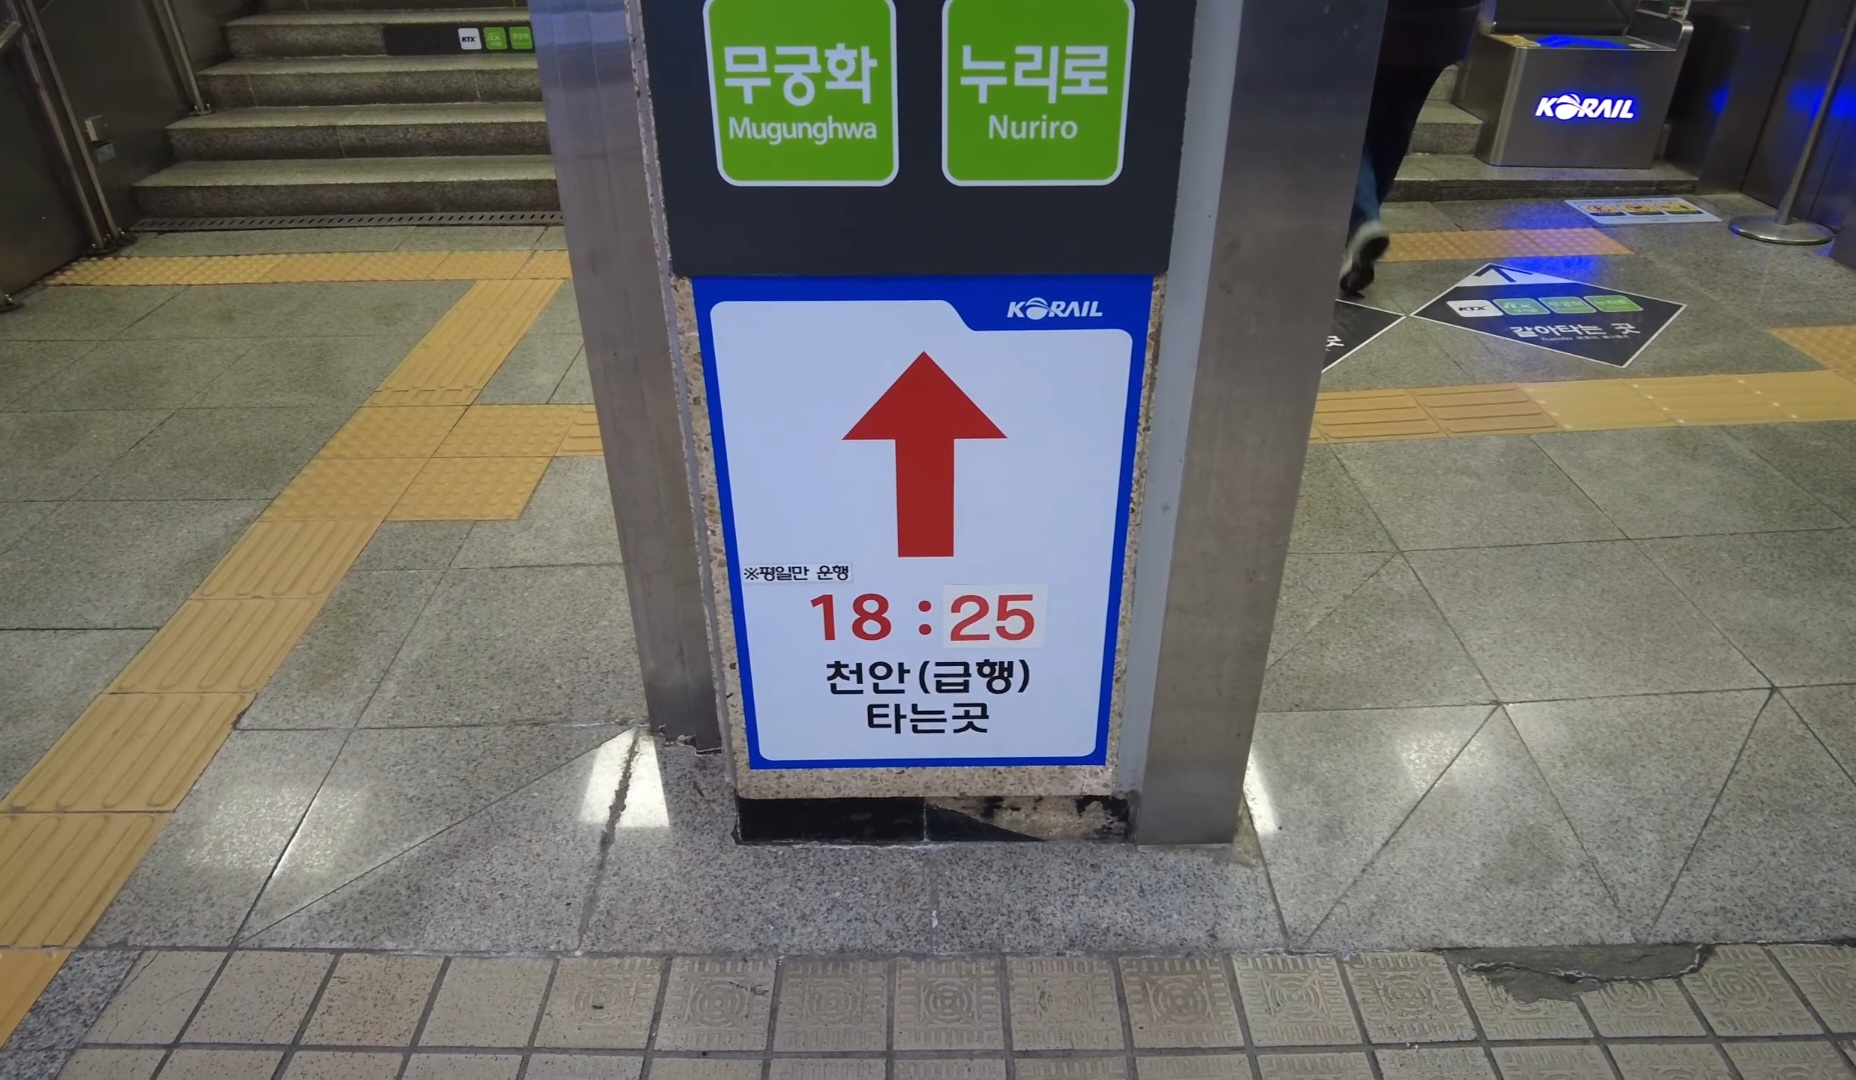guideBlock: (59, 717, 217, 813), (157, 606, 278, 683), (236, 519, 353, 594), (1438, 387, 1530, 436), (1326, 387, 1413, 438)
warningBlock: (411, 462, 540, 525), (450, 408, 554, 471), (305, 463, 423, 512), (350, 409, 442, 462)
